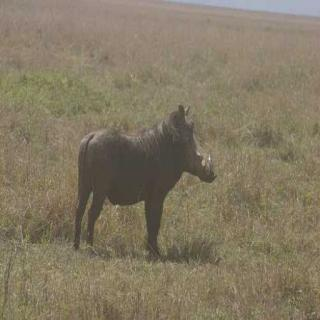Pig: (56, 86, 229, 266)
